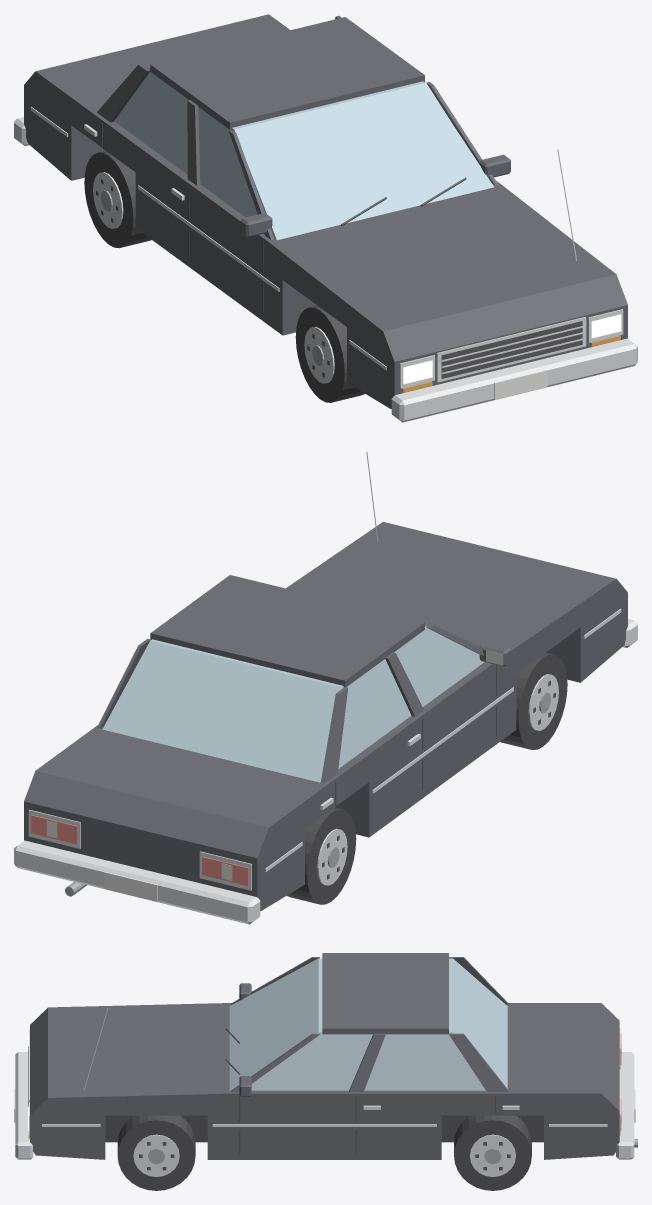
The model's file is car_sedan_k_svc.glb.
The picture shows the model from 3 angles, top to bottom: view 1: azimuth 30°, elevation 25°; view 2: azimuth 150°, elevation 25°; view 3: azimuth 270°, elevation 25°; orthographic projection. The views are drawn at different scales.
Visible parts, largest first — view 1: car_sedan_k_svc_car_k, car_sedan_k_svc_glass, car_sedan_k_svc_chrome, car_sedan_k_svc_rubber, car_sedan_k_svc_dark, car_sedan_k_svc_lamp_glass, car_sedan_k_svc_paint_w; view 2: car_sedan_k_svc_car_k, car_sedan_k_svc_glass, car_sedan_k_svc_chrome, car_sedan_k_svc_rubber, car_sedan_k_svc_neon_r, car_sedan_k_svc_paint_w; view 3: car_sedan_k_svc_car_k, car_sedan_k_svc_glass, car_sedan_k_svc_rubber, car_sedan_k_svc_chrome, car_sedan_k_svc_dark, car_sedan_k_svc_steel.
Part boxes in pixels (left/top/right/bottom): car_sedan_k_svc_car_k: left=24, top=14, right=627, bottom=408; car_sedan_k_svc_glass: left=114, top=68, right=493, bottom=240; car_sedan_k_svc_chrome: left=14, top=106, right=637, bottom=422; car_sedan_k_svc_rubber: left=84, top=150, right=364, bottom=402; car_sedan_k_svc_dark: left=96, top=122, right=582, bottom=378; car_sedan_k_svc_lamp_glass: left=403, top=314, right=621, bottom=384; car_sedan_k_svc_paint_w: left=494, top=370, right=547, bottom=399; car_sedan_k_svc_car_k: left=24, top=522, right=627, bottom=910; car_sedan_k_svc_glass: left=102, top=626, right=483, bottom=782; car_sedan_k_svc_chrome: left=14, top=451, right=637, bottom=924; car_sedan_k_svc_rubber: left=287, top=652, right=567, bottom=904; car_sedan_k_svc_neon_r: left=30, top=815, right=248, bottom=886; car_sedan_k_svc_paint_w: left=46, top=820, right=232, bottom=901; car_sedan_k_svc_car_k: left=30, top=953, right=619, bottom=1159; car_sedan_k_svc_glass: left=229, top=958, right=507, bottom=1090; car_sedan_k_svc_rubber: left=105, top=1115, right=543, bottom=1190; car_sedan_k_svc_chrome: left=15, top=1008, right=634, bottom=1176; car_sedan_k_svc_dark: left=28, top=1028, right=510, bottom=1170; car_sedan_k_svc_steel: left=148, top=1139, right=637, bottom=1164.
Bounding box in the file's own units: 2 × 1.6 × 5.12.
